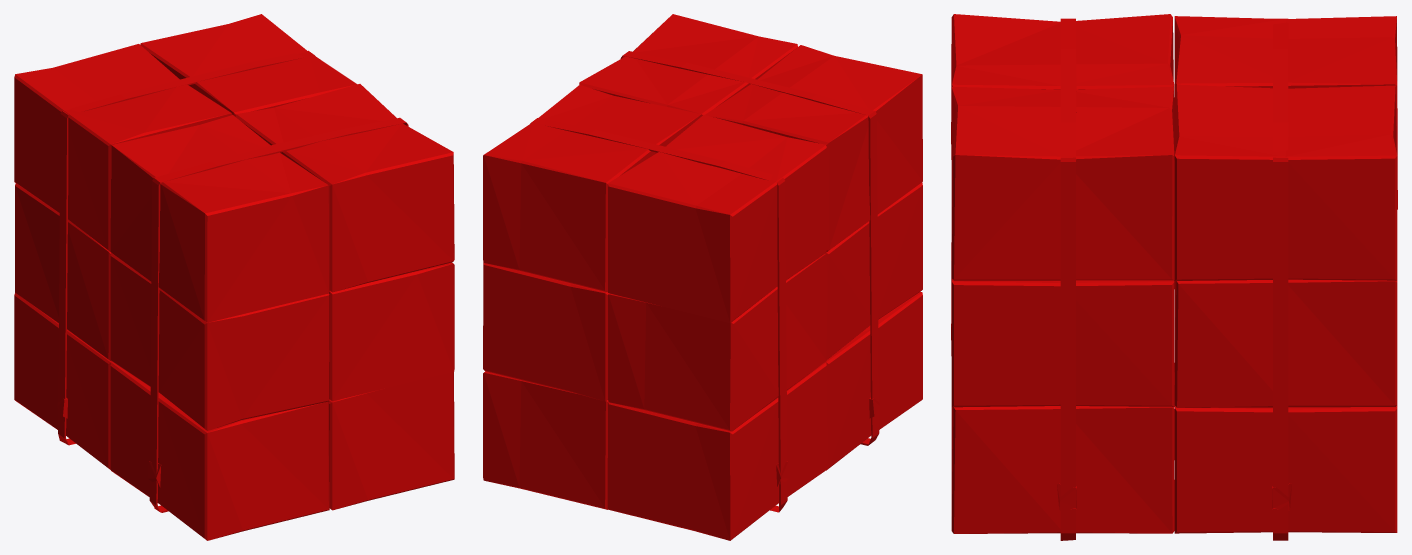
The picture shows the model from 3 angles, left to right: view 1: azimuth 30°, elevation 25°; view 2: azimuth 150°, elevation 25°; view 3: azimuth 270°, elevation 25°; orthographic projection. The views are drawn at different scales.
Parts seen in each view (by area): view 1: Mesh; view 2: Mesh; view 3: Mesh.
Part boxes in pixels (x1=…): Mesh: x1=14, y1=14, x2=454, y2=540; Mesh: x1=483, y1=14, x2=922, y2=540; Mesh: x1=951, y1=14, x2=1397, y2=540.
Bounding box in the file's own units: 1.24 × 1.53 × 1.6.
